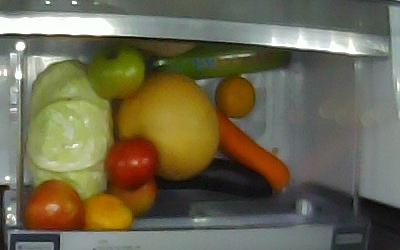cabbage: (29, 58, 115, 210)
carrot: (218, 110, 292, 190)
eggplant: (155, 159, 277, 198)
pear: (117, 72, 218, 182)
prune: (25, 180, 81, 231), (105, 138, 156, 192)
tangerine: (81, 192, 133, 230), (215, 79, 255, 118)
tomato: (87, 48, 144, 100)
zucchini: (140, 45, 293, 75)
